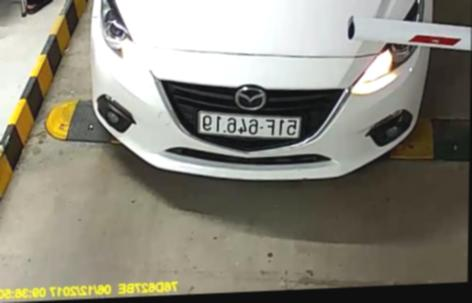License_Plate: (191, 108, 304, 148)
